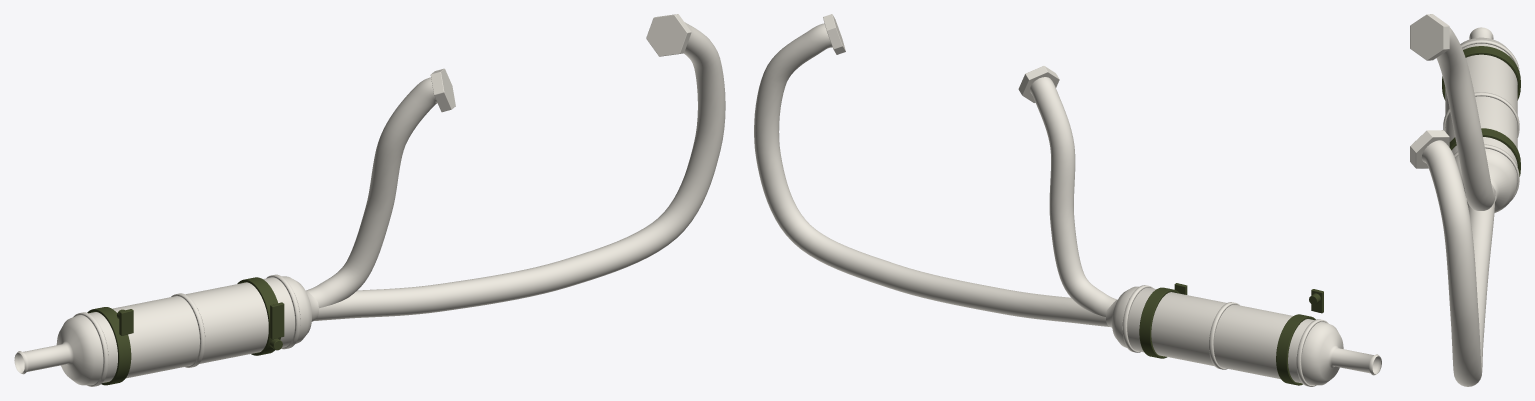
Rendered from bike_vintage_vtwin__exhaust.glb.
3 renders of one model, left to right at view 1: azimuth 30°, elevation 25°; view 2: azimuth 150°, elevation 25°; view 3: azimuth 270°, elevation 25°, orthographic. The views are drawn at different scales.
Parts seen in each view (by area): view 1: powertrain__exhaust__pipes, powertrain__exhaust__silencer, powertrain__exhaust__hangers, powertrain__exhaust__port_nuts; view 2: powertrain__exhaust__pipes, powertrain__exhaust__silencer, powertrain__exhaust__hangers, powertrain__exhaust__port_nuts; view 3: powertrain__exhaust__pipes, powertrain__exhaust__silencer, powertrain__exhaust__port_nuts, powertrain__exhaust__hangers.
Part boxes in pixels (x1,y1,x2,y2): powertrain__exhaust__pipes: [306, 22, 725, 320]; powertrain__exhaust__silencer: [14, 274, 318, 386]; powertrain__exhaust__hangers: [87, 277, 284, 385]; powertrain__exhaust__port_nuts: [430, 14, 691, 112]; powertrain__exhaust__pipes: [754, 23, 1117, 326]; powertrain__exhaust__silencer: [1106, 285, 1381, 386]; powertrain__exhaust__hangers: [1139, 283, 1323, 385]; powertrain__exhaust__port_nuts: [823, 14, 1059, 102]; powertrain__exhaust__pipes: [1421, 27, 1495, 386]; powertrain__exhaust__silencer: [1443, 27, 1519, 213]; powertrain__exhaust__port_nuts: [1410, 14, 1449, 168]; powertrain__exhaust__hangers: [1442, 46, 1520, 176].
Bounding box in the file's own units: 101 × 37.11 × 13.76.
